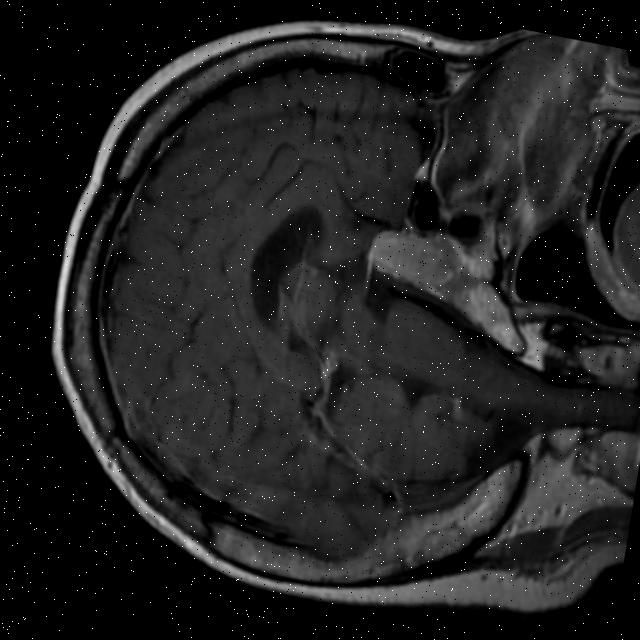Pituitary: (363, 224, 465, 292)
